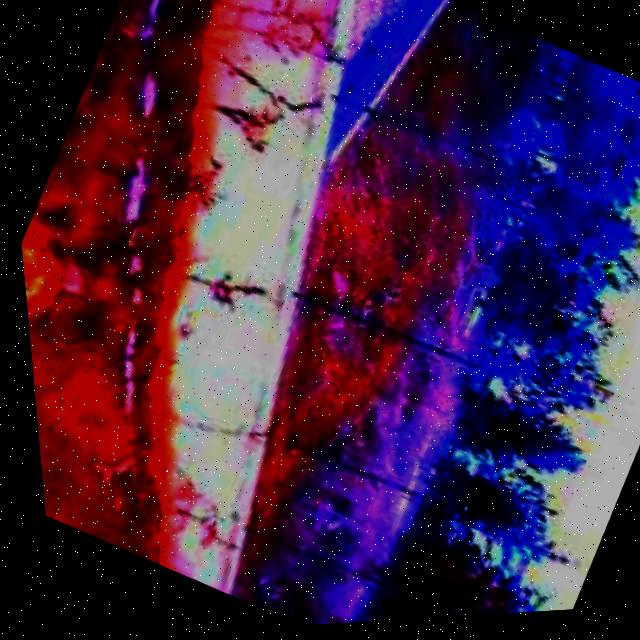Fire: (14, 197, 115, 390)
